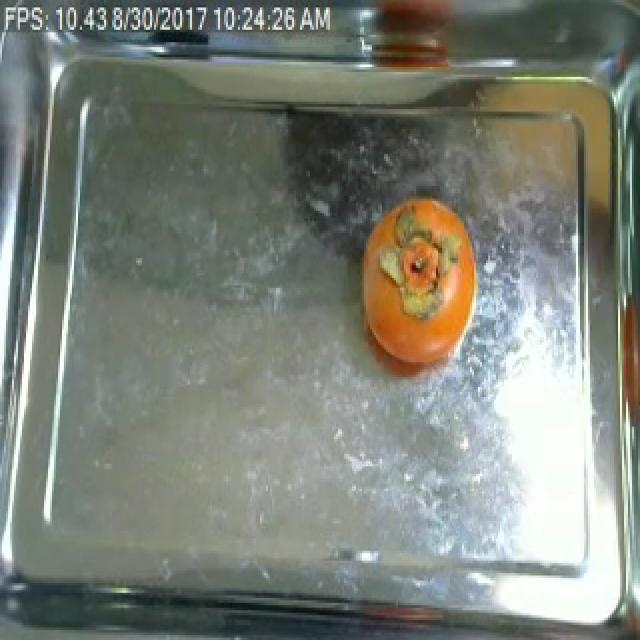Fruit: (354, 188, 462, 374)
